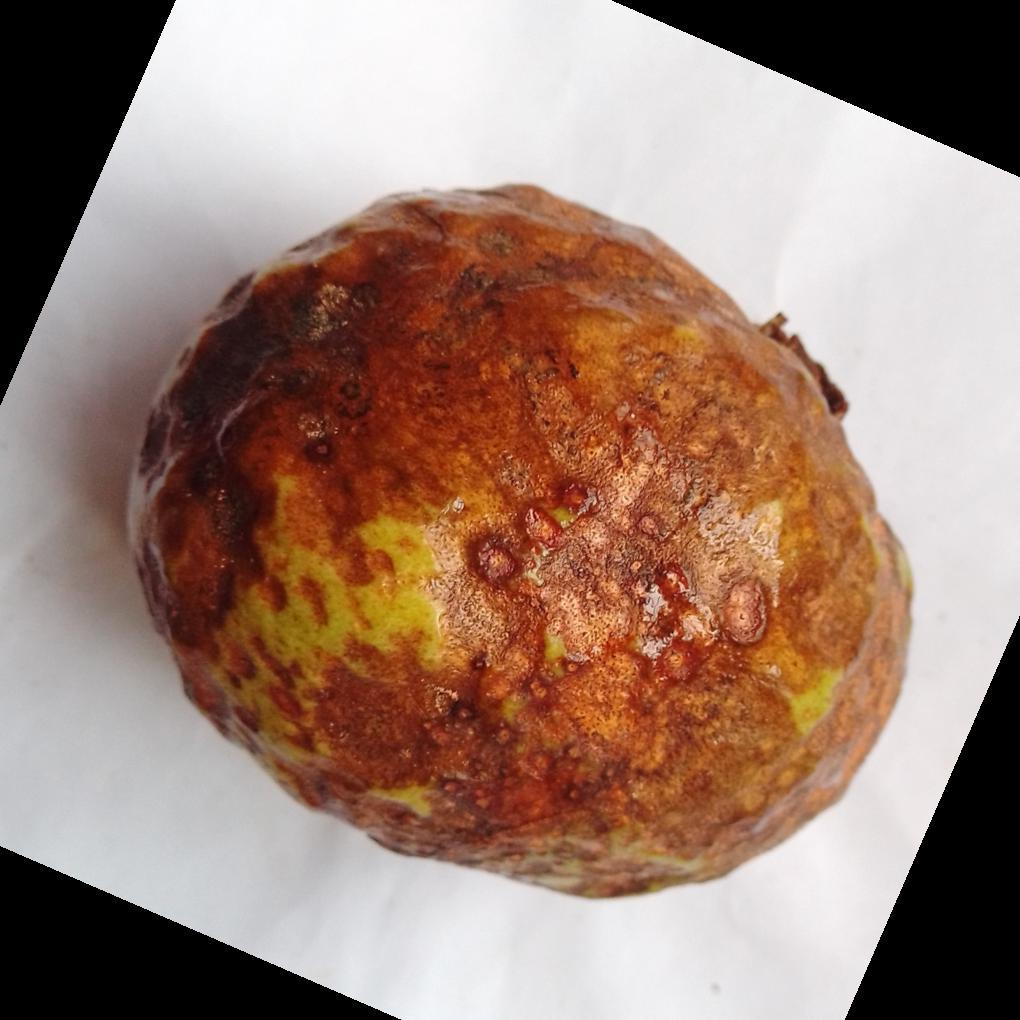FreshOrange: (122, 184, 914, 905)
